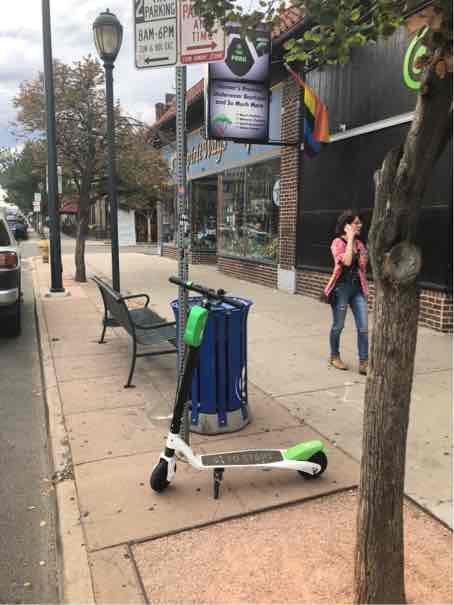scooter: (137, 275, 336, 494)
